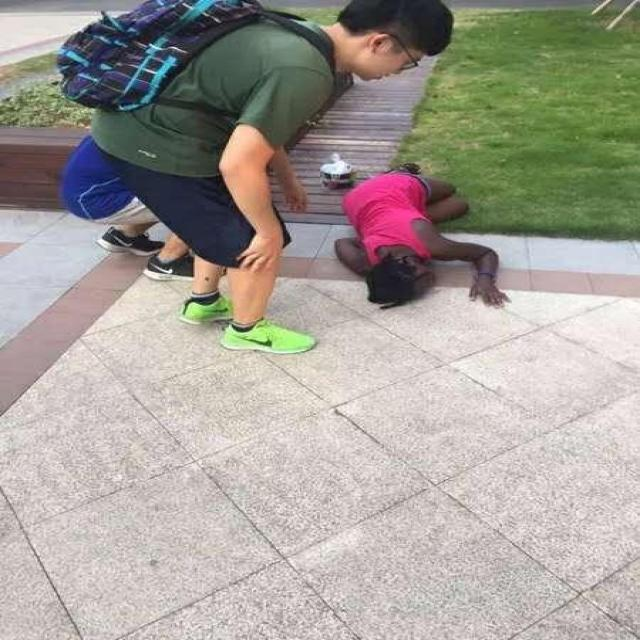fall: (336, 159, 512, 312)
